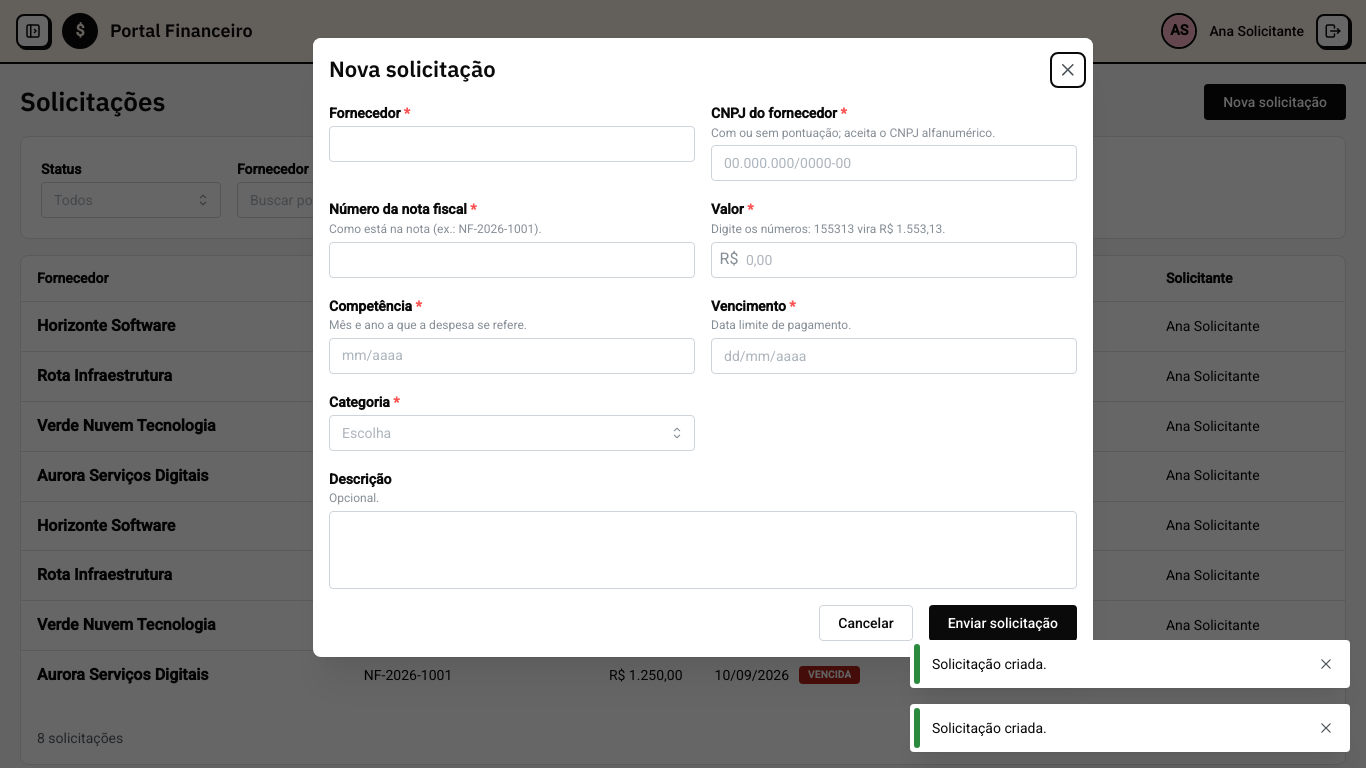
Test: #10 NewRequestModal › validates the shape before sending (nothing reaches the API)
Expected: the dialog "Nova solicitação" is shown, [313,38,1093,657]
In the field labelled "CNPJ do fornecedor *": point(894, 163) [711,145,1077,181], type "12ABC"
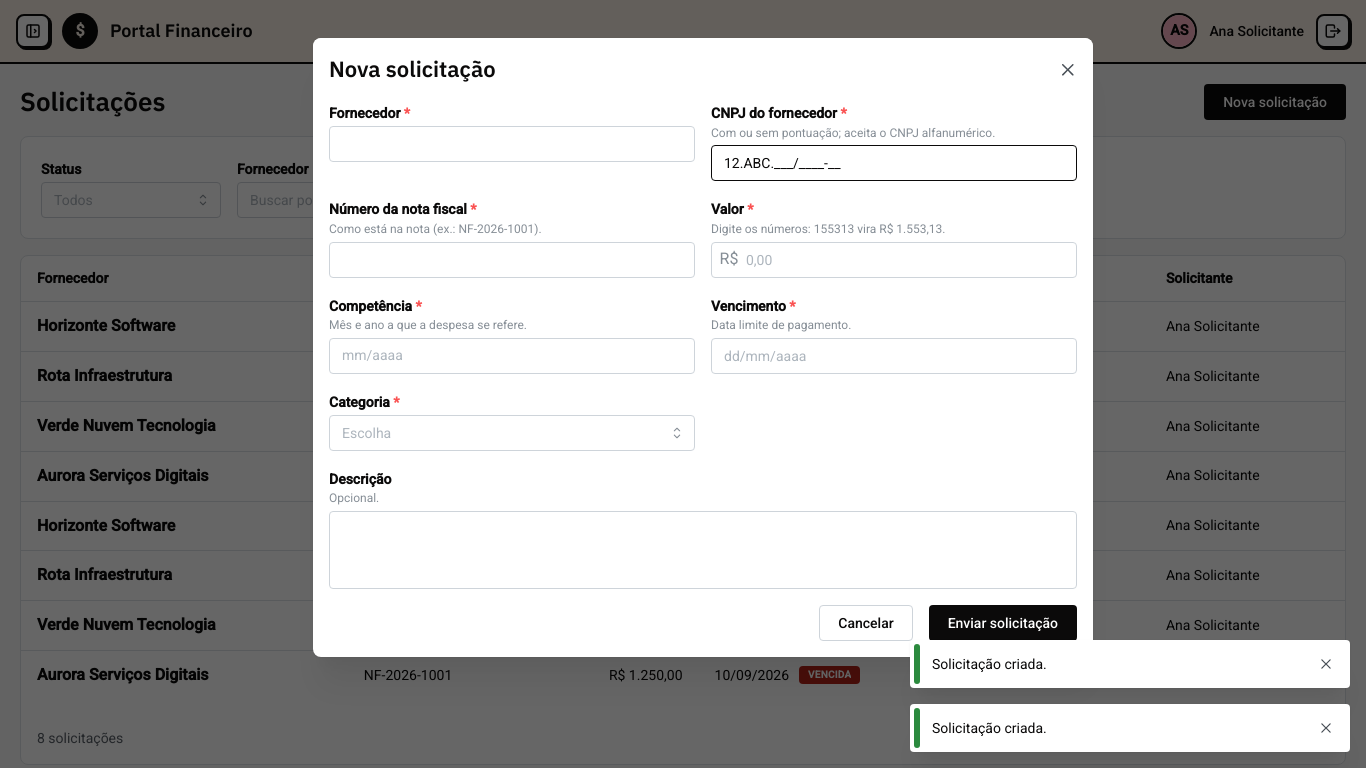
Click the button "Enviar solicitação": point(1003, 623) [929,605,1077,641]
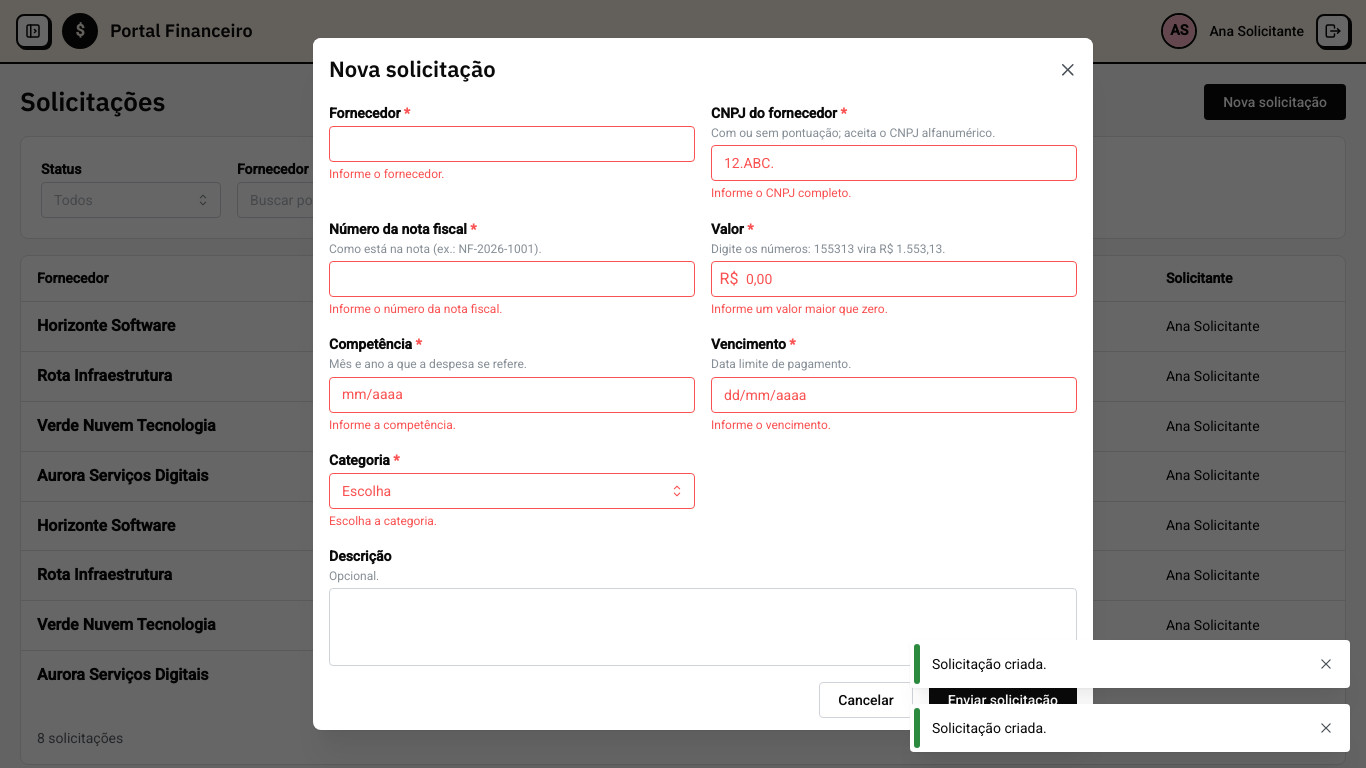
Expected: the text "Informe o fornecedor." is shown, [329,167,444,181]
Expected: the text "Informe o CNPJ completo." is shown, [711,186,852,200]
Expected: the text "Informe um valor maior que zero." is shown, [711,302,888,316]
